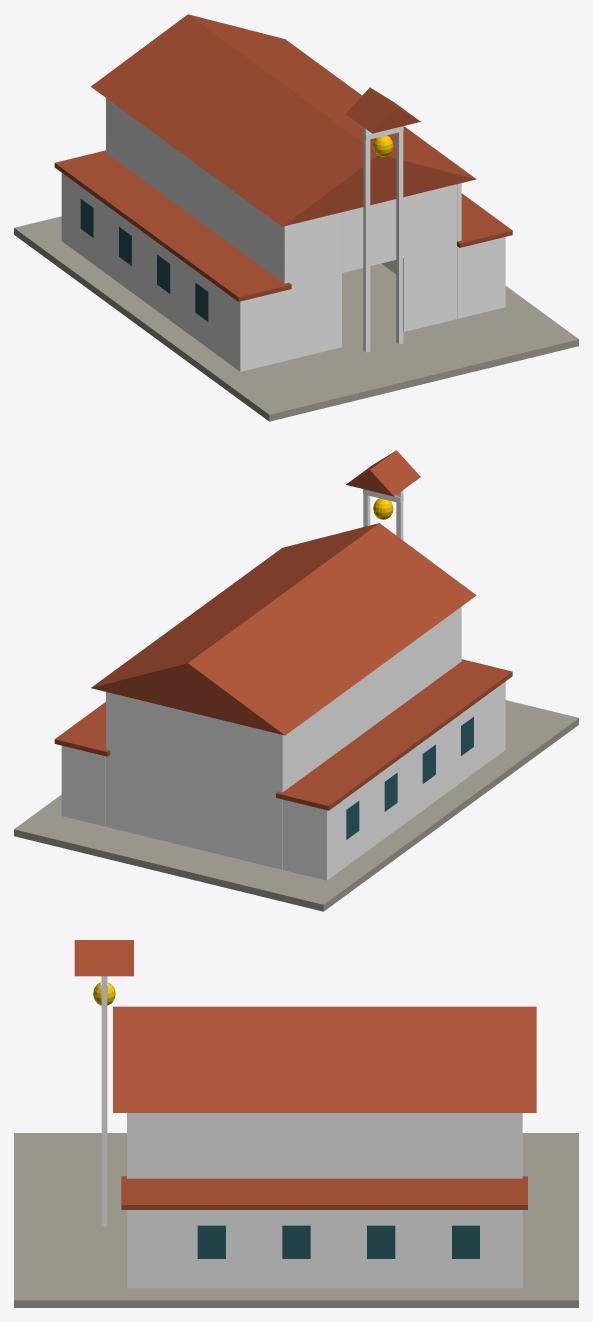
File: church-inspired-building.glb
3 renders of one model, top to bottom at view 1: azimuth 30°, elevation 25°; view 2: azimuth 150°, elevation 25°; view 3: azimuth 270°, elevation 25°, orthographic. The views are drawn at different scales.
Visible parts, largest first — view 1: Nave_Roof, Foundation, Side_Aisle, Nave_Wall, Aisle_Roof.001, Entry_Wing.001, Entry_Wing, Side_Aisle.001, Entry_Header, Bell_Tower_Roof, Bell_Tower_Post.001, Bell_Tower_Post (+2 smaller); view 2: Nave_Roof, Rear_Wall, Foundation, Side_Aisle, Nave_Wall, Aisle_Roof.001, Side_Aisle.001, Bell_Tower_Roof, Aisle_Roof, Nave_Wall.001; view 3: Nave_Roof, Foundation, Side_Aisle.001, Nave_Wall.001, Aisle_Roof, Bell_Tower_Roof, Bell_Tower_Post, Aisle_Window.006, Aisle_Window.005, Aisle_Window.007, Aisle_Window.
Boxes of the visible parts, x1,y1,x2,y2 form: Nave_Roof: (91,14,476,226); Foundation: (14,216,578,421); Side_Aisle: (61,173,284,371); Nave_Wall: (106,98,288,360); Aisle_Roof.001: (54,150,291,301); Entry_Wing.001: (403,184,456,331); Entry_Wing: (289,212,341,359); Side_Aisle.001: (461,237,505,317); Entry_Header: (342,197,403,272); Bell_Tower_Roof: (346,87,420,133); Bell_Tower_Post.001: (363,127,370,352); Bell_Tower_Post: (396,131,403,344); Nave_Roof: (91,523,476,735); Rear_Wall: (110,693,278,868); Foundation: (14,700,578,911); Side_Aisle: (283,681,505,880); Nave_Wall: (278,607,461,869); Aisle_Roof.001: (276,659,512,810); Side_Aisle.001: (61,745,105,826); Bell_Tower_Roof: (346,450,420,496); Aisle_Roof: (54,702,110,756); Nave_Wall.001: (106,692,110,827); Nave_Roof: (113,1006,536,1112); Foundation: (14,1133,578,1307); Side_Aisle.001: (127,1210,522,1288); Nave_Wall.001: (127,1113,522,1178); Aisle_Roof: (121,1176,527,1209); Bell_Tower_Roof: (74,940,133,976); Bell_Tower_Post: (101,976,107,1226); Aisle_Window.006: (282,1225,310,1258); Aisle_Window.005: (197,1225,225,1258); Aisle_Window.007: (367,1225,395,1258); Aisle_Window: (452,1225,479,1258).
Bounding box in the file's own units: 14 × 11.1 × 20.
